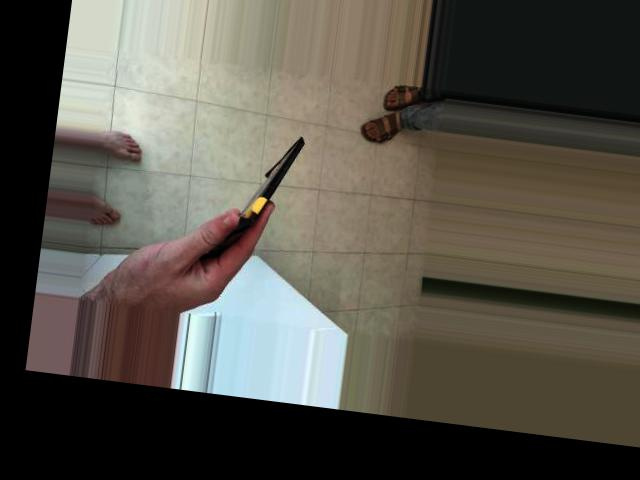chocolate: (226, 74, 382, 204)
